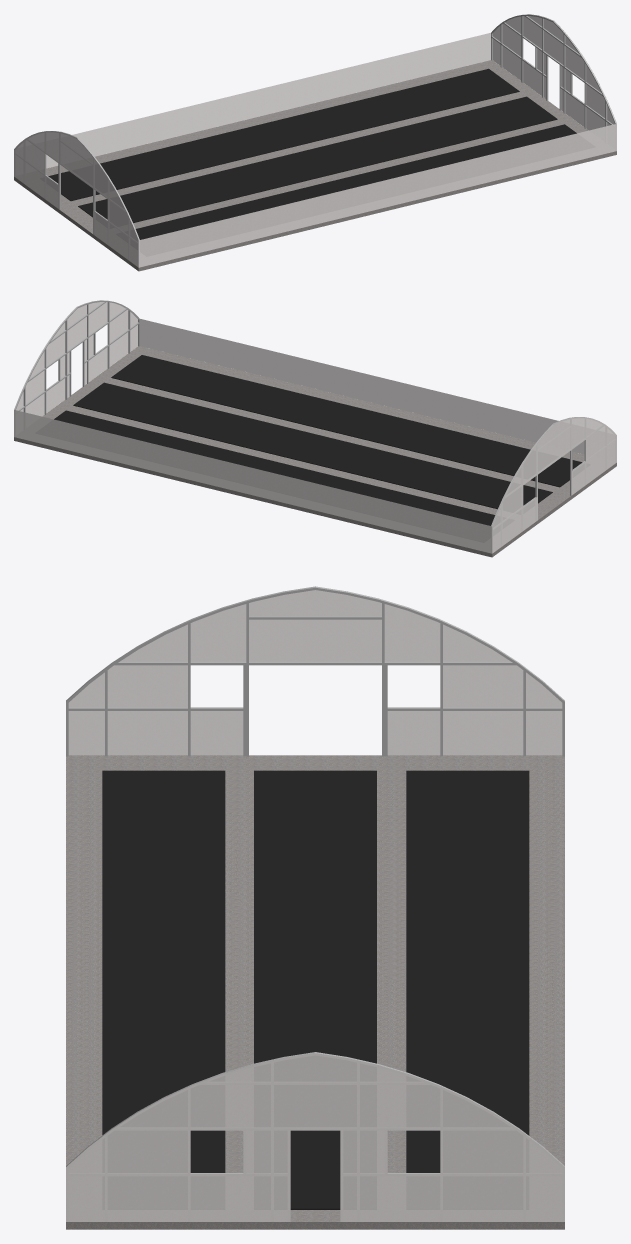
Rendered from house.dae.
The picture shows the model from 3 angles, top to bottom: view 1: azimuth 30°, elevation 25°; view 2: azimuth 150°, elevation 25°; view 3: azimuth 270°, elevation 25°; orthographic projection. The views are drawn at different scales.
Parts seen in each view (by area): view 1: group_3, black_rubber_floor_pad (×45), group_2, gh_half_arch_entry_door_front (×2); view 2: group_3, black_rubber_floor_pad (×45), group_2, gh_half_arch_entry_door_front (×2); view 3: black_rubber_floor_pad (×42), group_3, group_2, gh_half_arch_wide_door (×2).
Part boxes in pixels (x1=…): group_3: x1=14, y1=14, x2=616, y2=267; black_rubber_floor_pad (×45): x1=48, y1=68, x2=576, y2=235; group_2: x1=14, y1=60, x2=616, y2=271; gh_half_arch_entry_door_front (×2): x1=491, y1=14, x2=616, y2=128; group_3: x1=14, y1=300, x2=616, y2=553; black_rubber_floor_pad (×45): x1=54, y1=355, x2=582, y2=521; group_2: x1=14, y1=346, x2=616, y2=557; gh_half_arch_entry_door_front (×2): x1=14, y1=300, x2=139, y2=414; black_rubber_floor_pad (×42): x1=102, y1=770, x2=529, y2=1209; group_3: x1=66, y1=586, x2=564, y2=1221; group_2: x1=66, y1=755, x2=564, y2=1229; gh_half_arch_wide_door (×2): x1=66, y1=586, x2=564, y2=756.
Size of the model in its own units: 790 by 357 by 139.
Materials: 4 (2 with a texture image).
